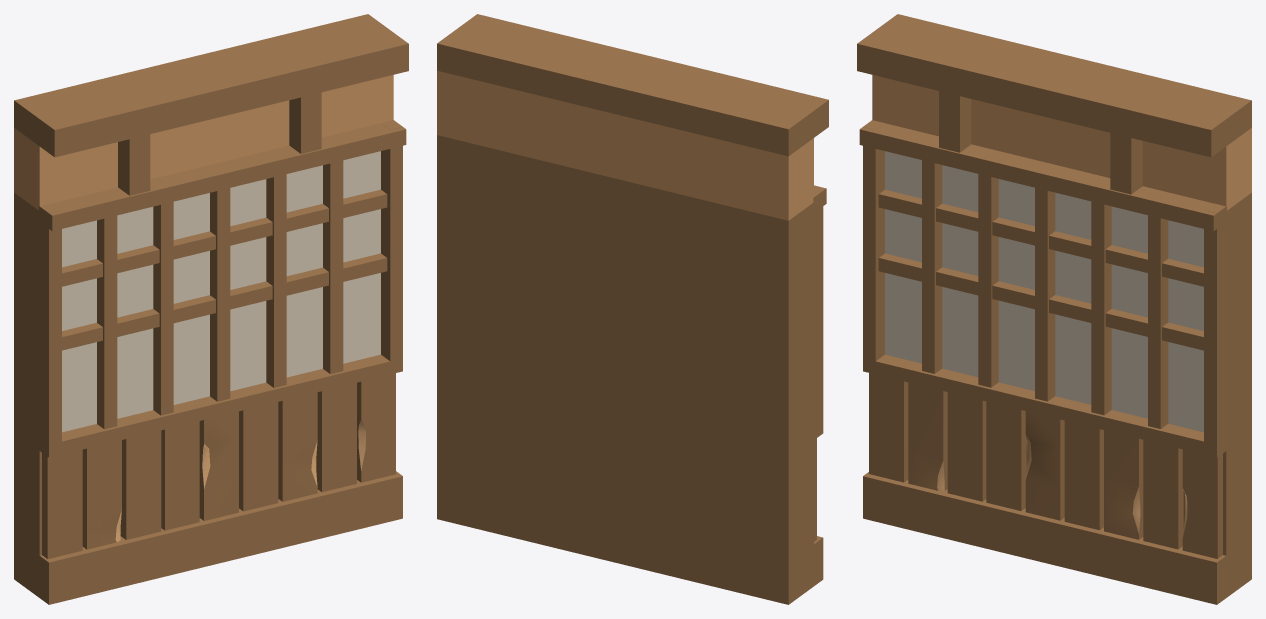
Rendered from normal_wall.glb.
3 renders of one model, left to right at view 1: azimuth 30°, elevation 25°; view 2: azimuth 150°, elevation 25°; view 3: azimuth 330°, elevation 25°, orthographic.
Parts seen in each view (by area): view 1: Wall_Shoji.002; view 2: Wall_Shoji.002; view 3: Wall_Shoji.002.
Boxes of the visible parts, x1,y1,x2,y2 form: Wall_Shoji.002: [14, 14, 408, 604]; Wall_Shoji.002: [437, 14, 828, 604]; Wall_Shoji.002: [857, 14, 1251, 604].
Size of the model in its own units: 4 by 5.17 by 0.7952.
2 materials, 1 textured.
